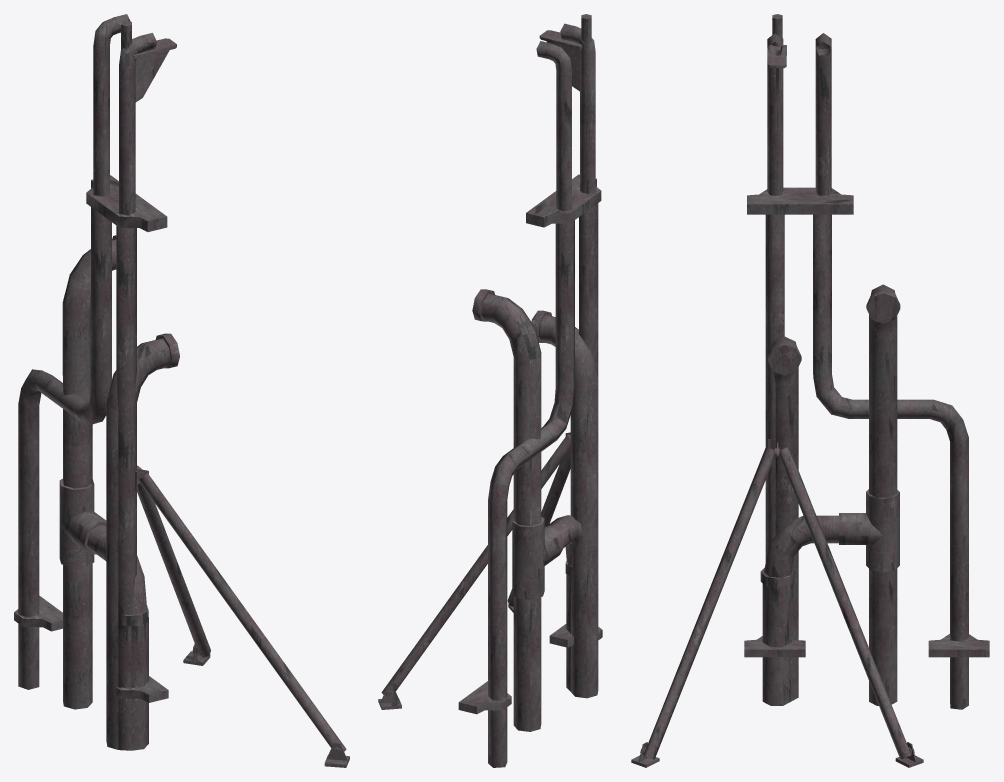
The model's file is PipesPole LowP.fbx.
3 renders of one model, left to right at view 1: azimuth 30°, elevation 25°; view 2: azimuth 150°, elevation 25°; view 3: azimuth 270°, elevation 25°, orthographic. The views are drawn at different scales.
Visible parts, largest first — view 1: Group4, Group2, Group1, Group3; view 2: Group4, Group2, Group3, Group1; view 3: Group4, Group2, Group1, Group3.
Boxes of the visible parts, left/top/right/bottom form: Group4: left=14, top=14, right=168, bottom=750; Group2: left=59, top=235, right=148, bottom=750; Group1: left=121, top=20, right=349, bottom=767; Group3: left=106, top=333, right=179, bottom=749; Group4: left=458, top=23, right=602, bottom=767; Group2: left=472, top=289, right=583, bottom=731; Group3: left=531, top=310, right=598, bottom=698; Group1: left=378, top=14, right=591, bottom=709; Group4: left=744, top=33, right=989, bottom=709; Group2: left=760, top=284, right=900, bottom=705; Group1: left=631, top=14, right=923, bottom=767; Group3: left=767, top=336, right=801, bottom=701.
Size of the model in its own units: 102 by 423 by 199.
